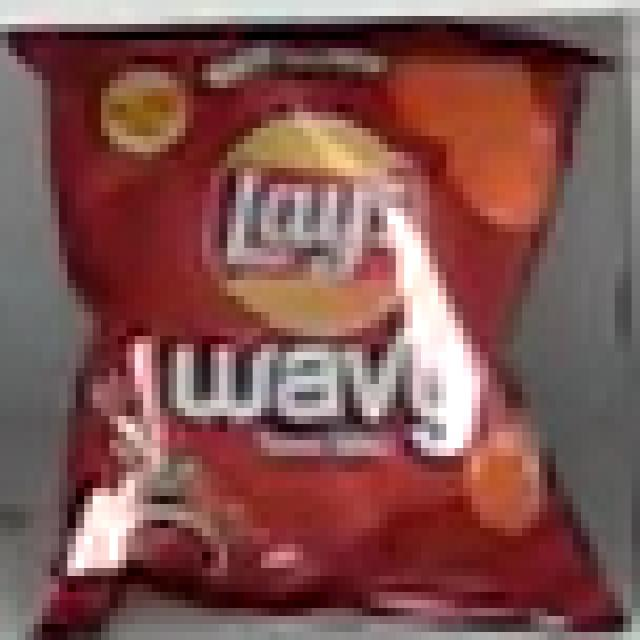Plastic: (3, 16, 640, 633)
